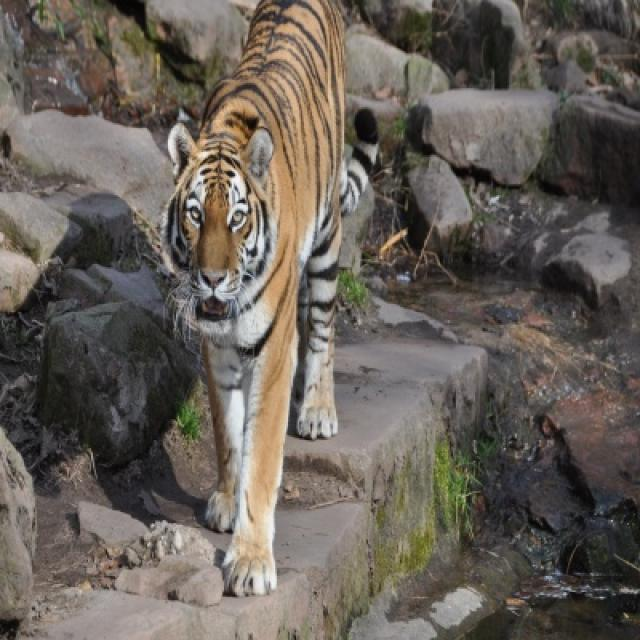Tiger: (160, 0, 352, 589)
